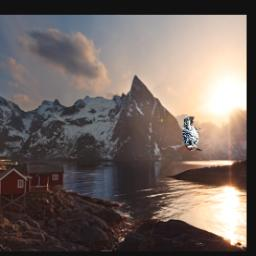Woodpecker: (181, 116, 203, 152)
